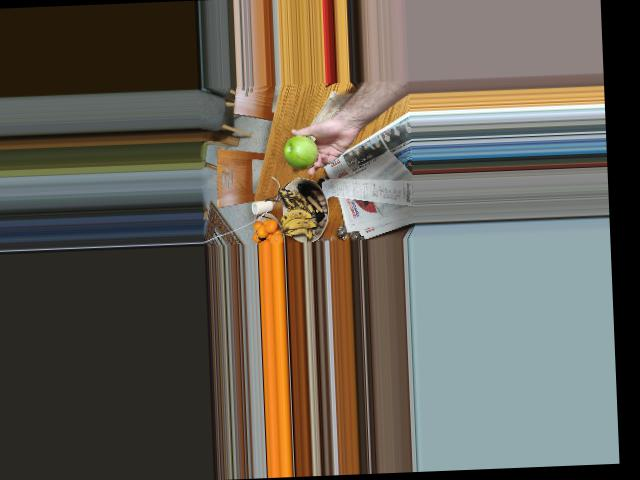apple: (283, 135, 320, 169)
